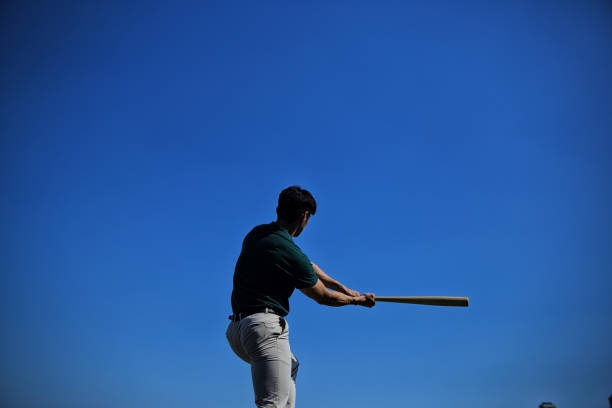bita: (370, 294, 469, 306)
